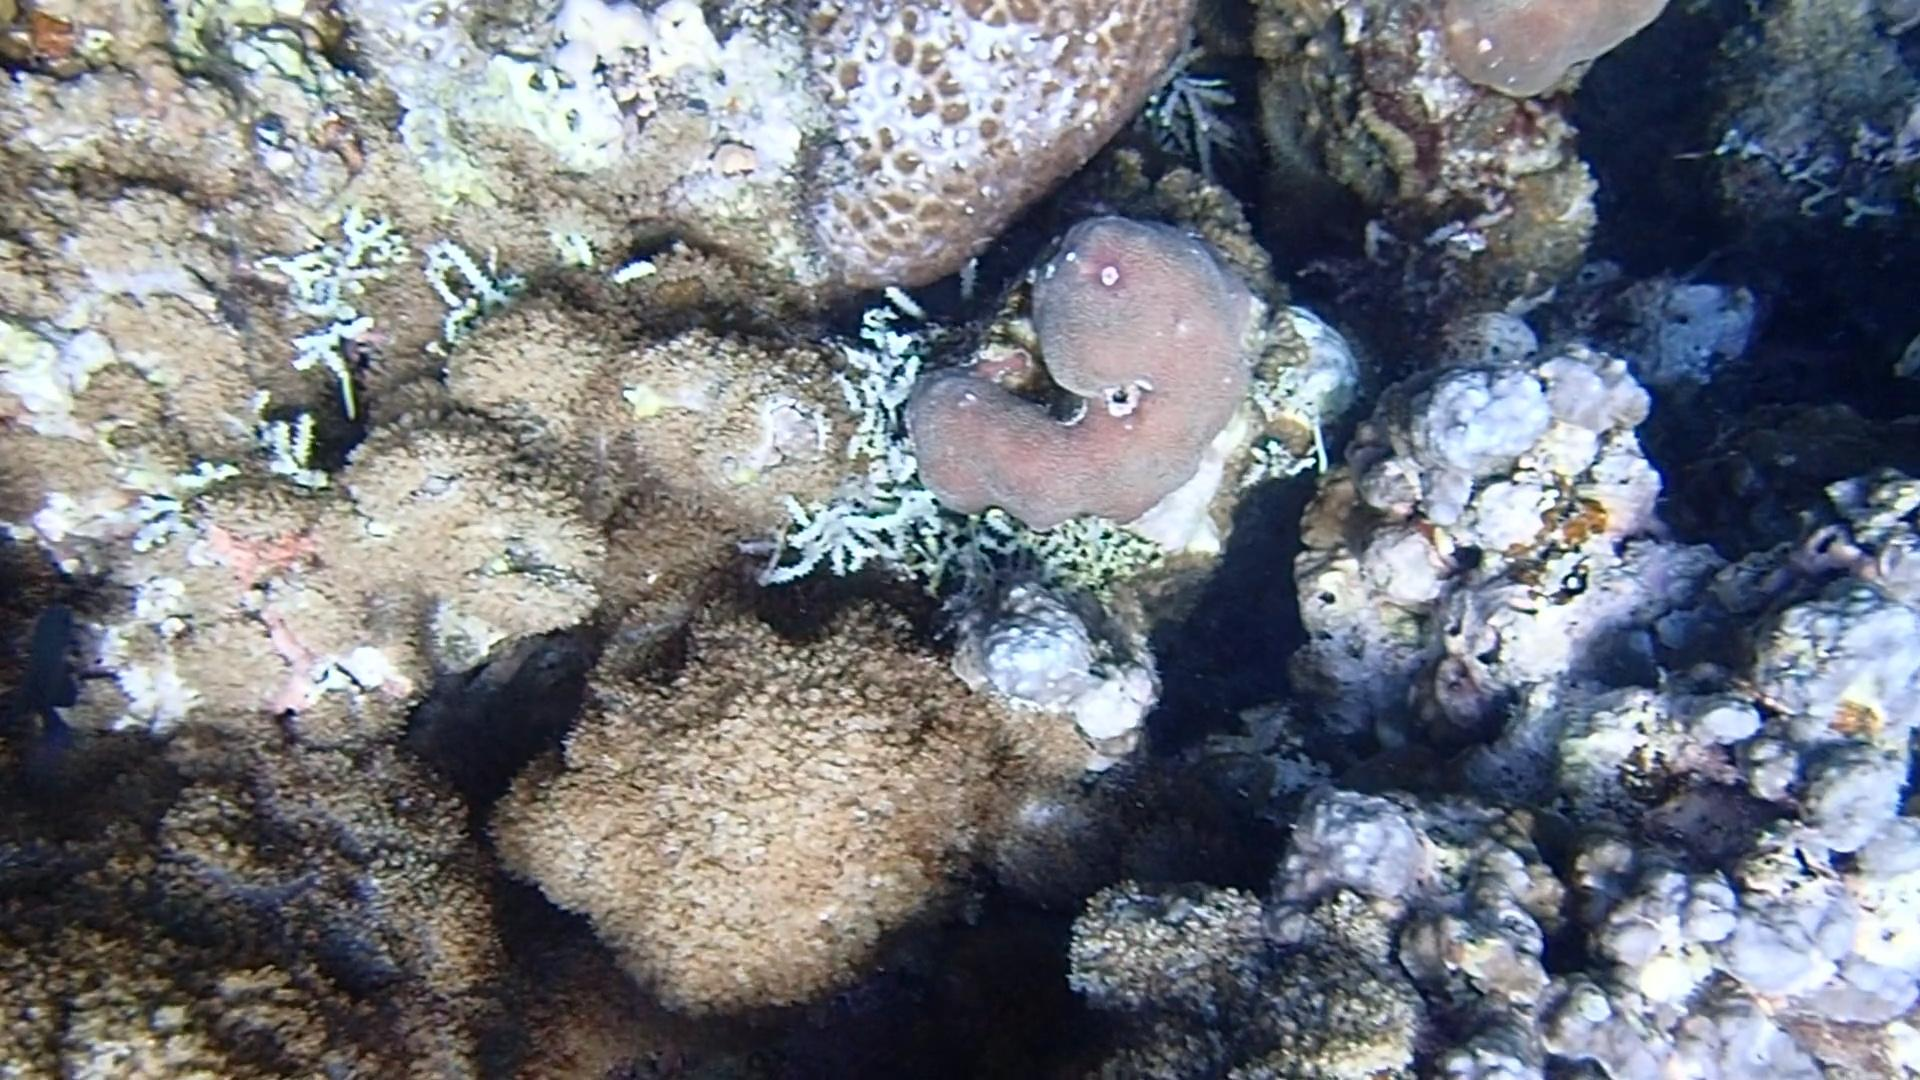Dark Fish: (11, 588, 92, 771)
